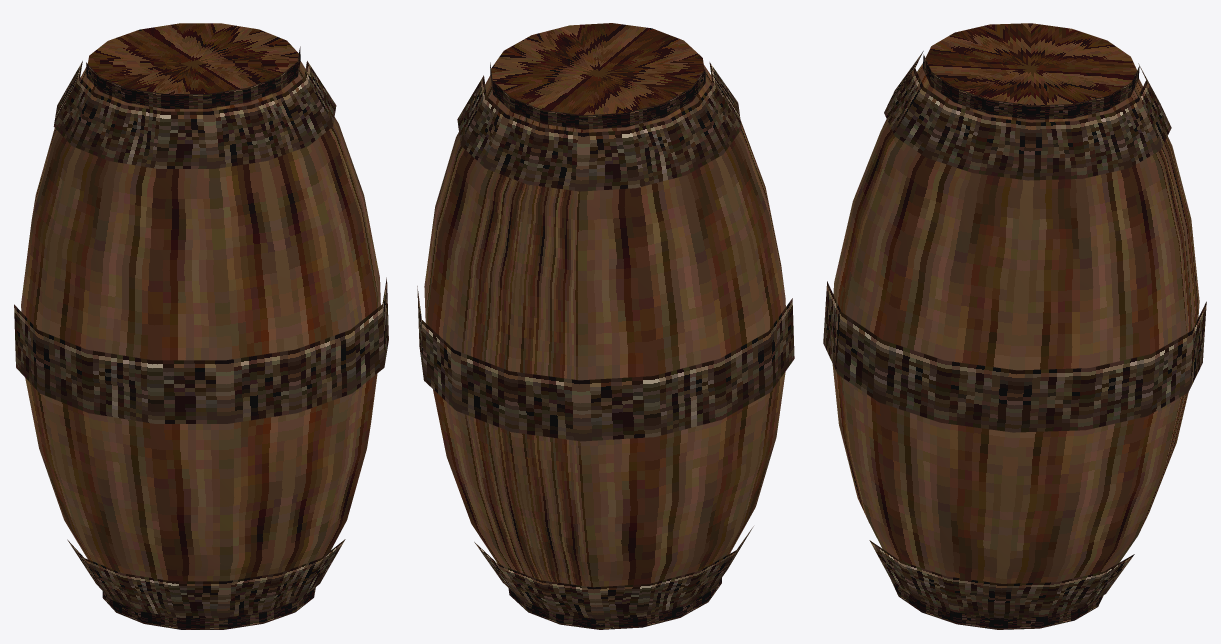
File: Barrel_FromBlender.glb
3 renders of one model, left to right at view 1: azimuth 30°, elevation 25°; view 2: azimuth 150°, elevation 25°; view 3: azimuth 270°, elevation 25°, orthographic.
Parts seen in each view (by area): view 1: Node_00_00_00_00_00_00_00_00; view 2: Node_00_00_00_00_00_00_00_00; view 3: Node_00_00_00_00_00_00_00_00.
Part boxes in pixels (x1,y1,x2,y2): Node_00_00_00_00_00_00_00_00: (14, 23, 388, 629); Node_00_00_00_00_00_00_00_00: (417, 23, 794, 629); Node_00_00_00_00_00_00_00_00: (823, 23, 1206, 629).
Size of the model in its own units: 10.54 by 16.57 by 10.75.
Materials: 2 (2 with a texture image).
